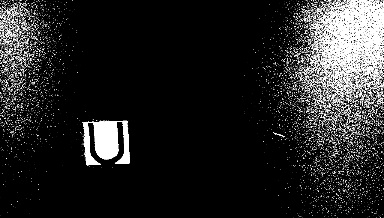U: (84, 122, 128, 163)
